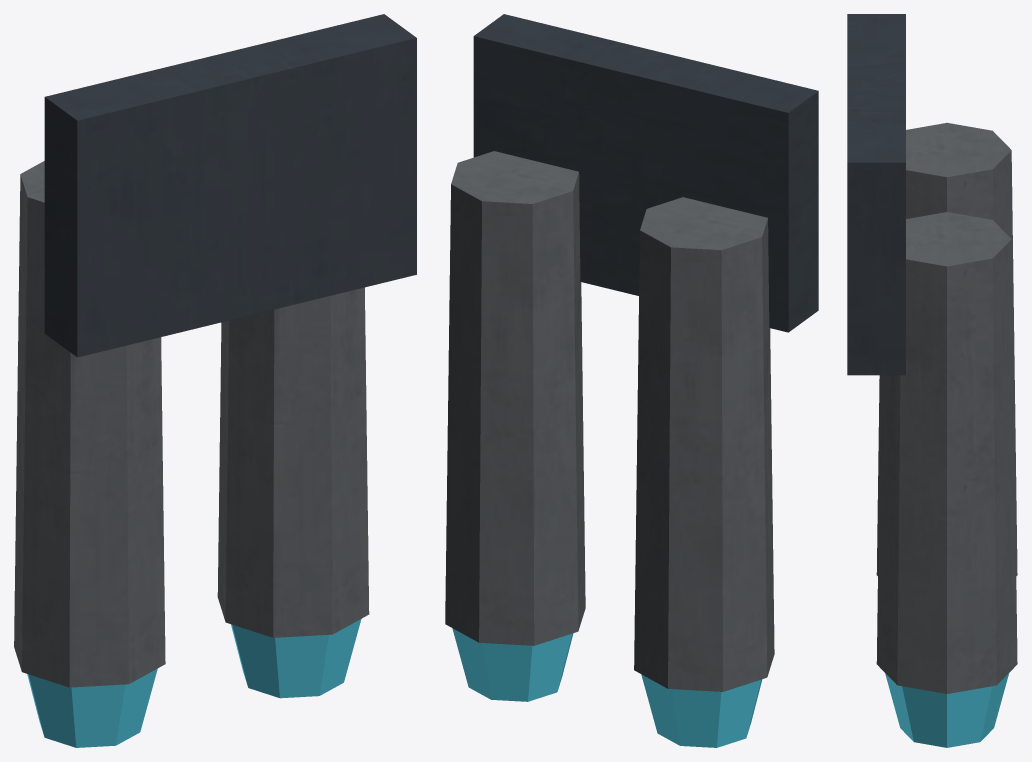
File: acc_jetpack_small.glb
3 views of the same model, side by side, from view 1: azimuth 30°, elevation 25°; view 2: azimuth 150°, elevation 25°; view 3: azimuth 270°, elevation 25° (orthographic). The views are drawn at different scales.
Visible parts, largest first — view 1: acc_jetpack_small; view 2: acc_jetpack_small; view 3: acc_jetpack_small.
Part boxes in pixels (<box>): acc_jetpack_small: <box>14,14,416,747</box>; acc_jetpack_small: <box>445,14,818,747</box>; acc_jetpack_small: <box>847,14,1017,747</box>.
Bounding box in the file's own units: 0.3 × 0.56 × 0.145.
3 materials, 3 textured.
